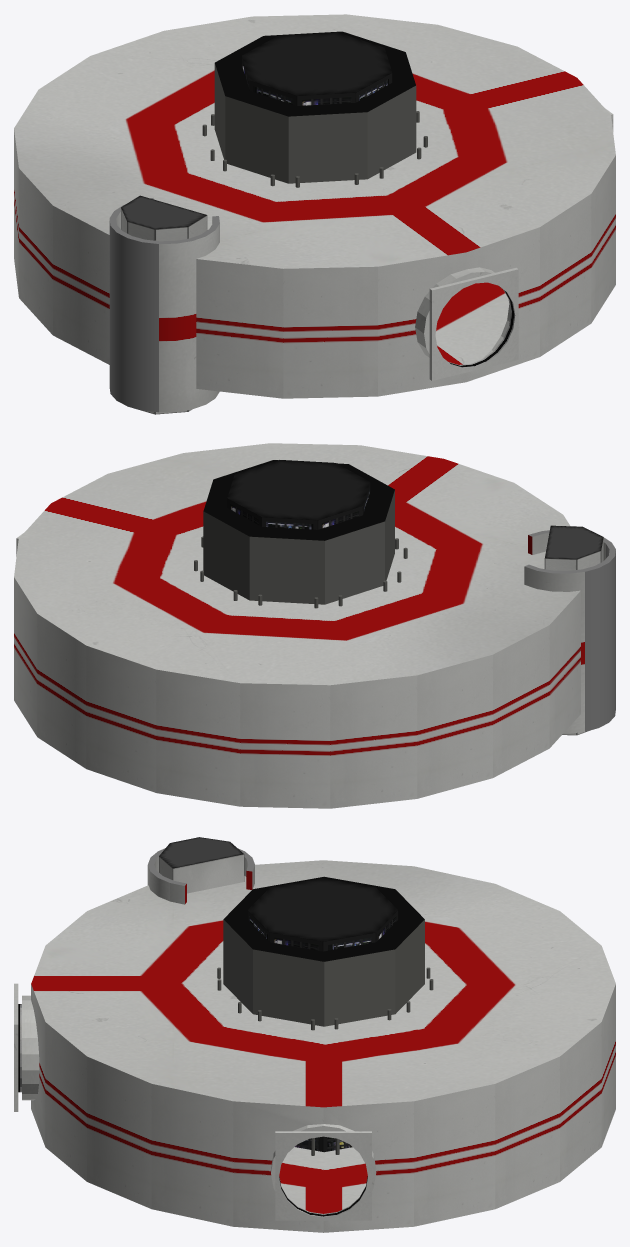
Rendered from Model_CommsRoomAll.fbx.
The picture shows the model from 3 angles, top to bottom: view 1: azimuth 30°, elevation 25°; view 2: azimuth 150°, elevation 25°; view 3: azimuth 270°, elevation 25°; orthographic projection. The views are drawn at different scales.
Parts seen in each view (by area): view 1: polySurface20, pCylinder6, polySurface21; view 2: polySurface20, pCylinder6, polySurface21; view 3: polySurface20, pCylinder6, polySurface21.
Boxes of the visible parts, x1=… form: polySurface20: x1=14, y1=14, x2=615, y2=412; pCylinder6: x1=242, y1=32, x2=392, y2=105; polySurface21: x1=121, y1=195, x2=207, y2=414; polySurface20: x1=14, y1=443, x2=615, y2=808; pCylinder6: x1=227, y1=460, x2=370, y2=529; polySurface21: x1=544, y1=525, x2=603, y2=735; polySurface20: x1=14, y1=848, x2=615, y2=1232; pCylinder6: x1=247, y1=878, x2=398, y2=1152; polySurface21: x1=159, y1=837, x2=244, y2=893.
Size of the model in its own units: 49.5 by 25.22 by 49.87.
